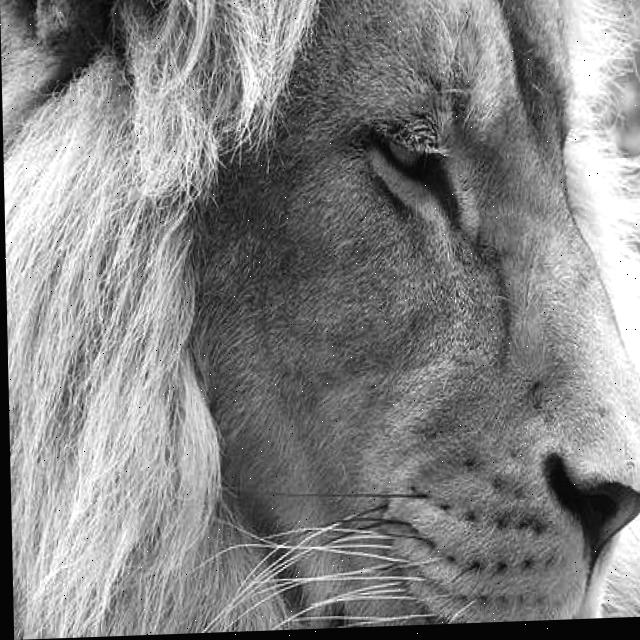Lion: (4, 0, 640, 640)
